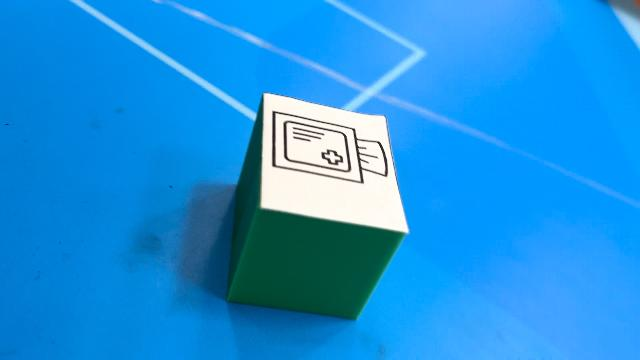napkin: (225, 90, 412, 322)
